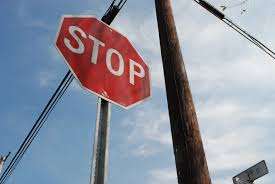SS: (55, 13, 151, 109)
